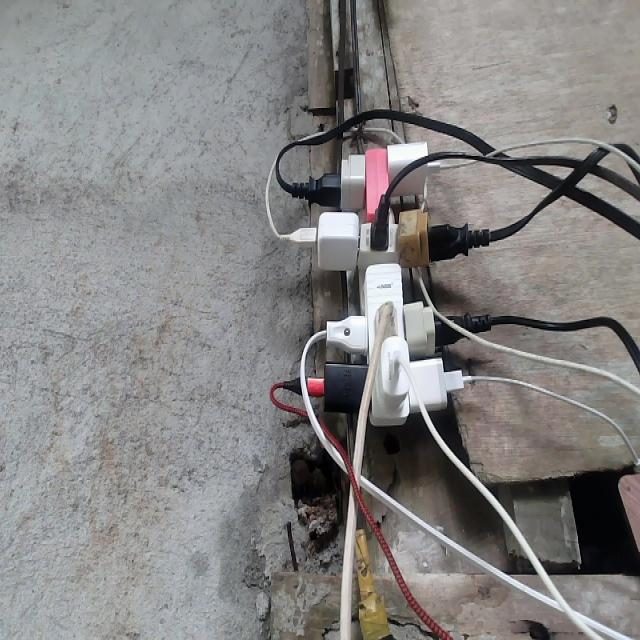-: (274, 141, 492, 427)
